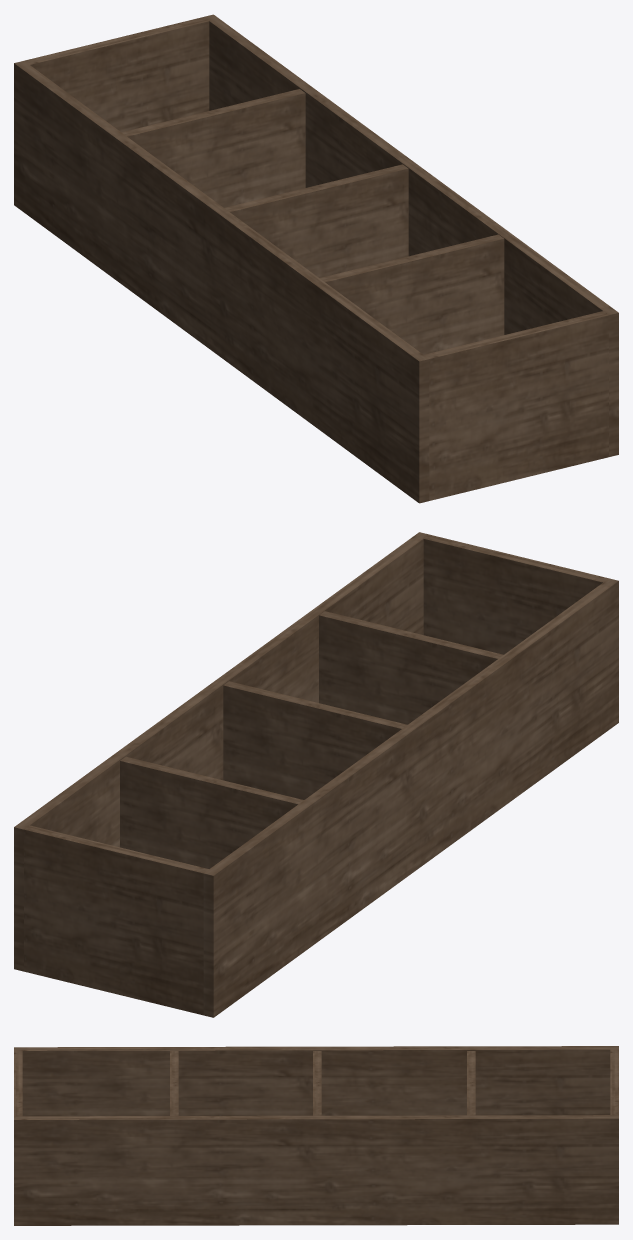
Rendered from cabin06a.fbx.
3 views of the same model, one above another, from view 1: azimuth 30°, elevation 25°; view 2: azimuth 150°, elevation 25°; view 3: azimuth 270°, elevation 25° (orthographic). The views are drawn at different scales.
Visible parts, largest first — view 1: cabin06a; view 2: cabin06a; view 3: cabin06a.
Boxes of the visible parts, box(x1,y1,x2,y2) form: cabin06a: box(14, 14, 618, 503); cabin06a: box(14, 532, 618, 1017); cabin06a: box(14, 1046, 618, 1225).
Size of the model in its own units: 39.88 by 27.42 by 140.
